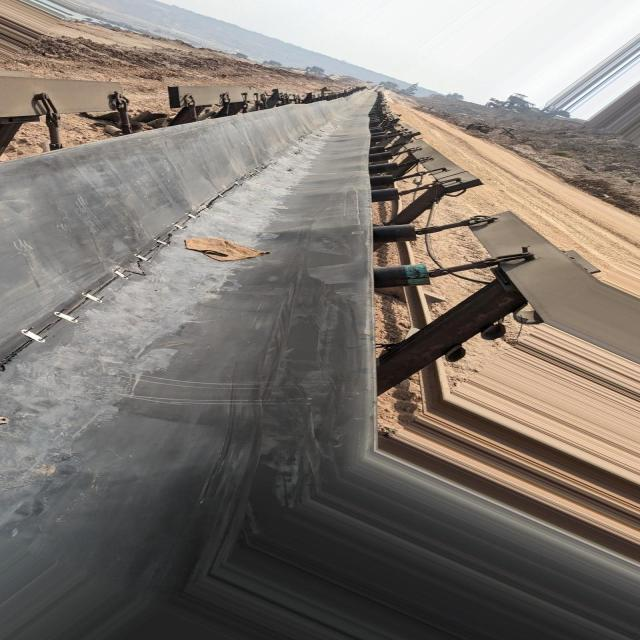Other Objects: (185, 236, 275, 263)
Roller: (368, 126, 400, 201), (372, 265, 430, 289), (370, 224, 418, 242)
patch work: (0, 174, 244, 384)
